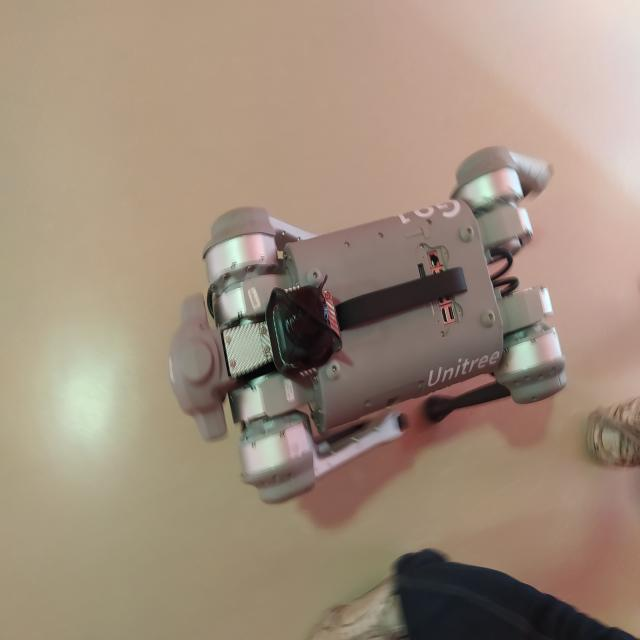unitree-go1-robot: (161, 134, 577, 518)
